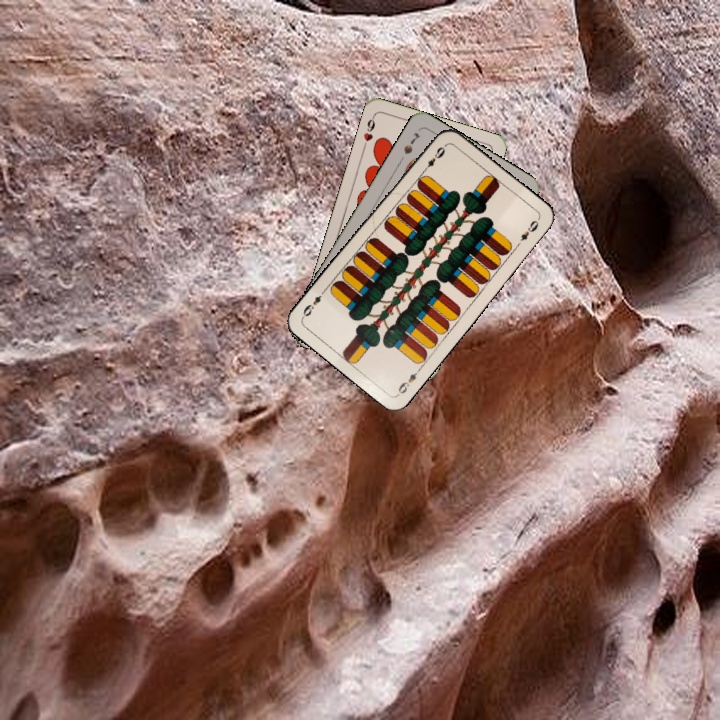E9: (419, 141, 449, 175), (394, 363, 424, 397)
H9: (359, 112, 378, 152)
S7: (400, 128, 423, 157)
